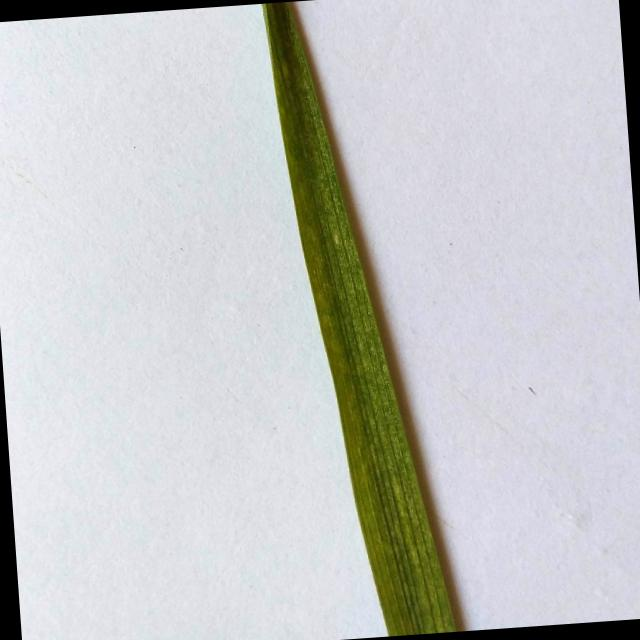Rice_Healthy: (262, 2, 455, 636)
